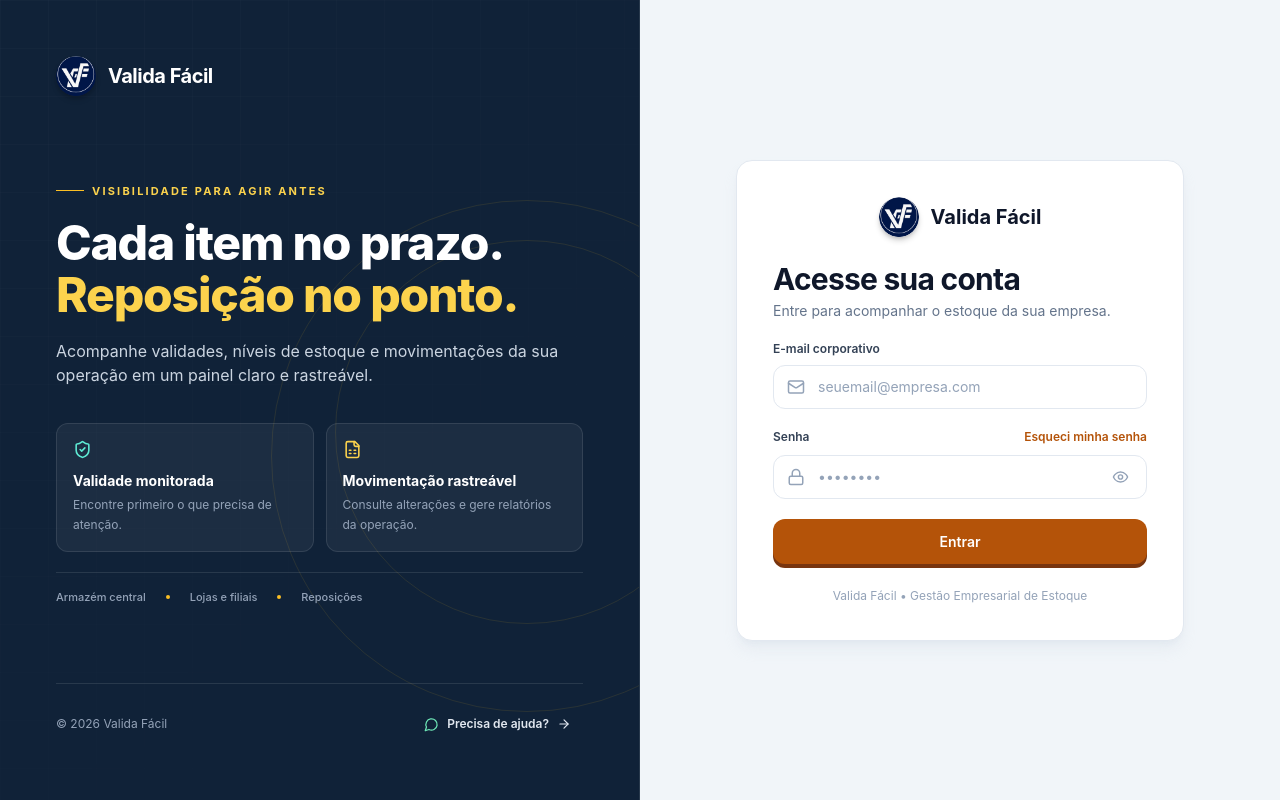
Test: LoginPage › mostra mensagem de erro quando as credenciais estão erradas, sem navegar
The width and height of the screenshot is (1280, 800).
Check: the button "Entrar" is enabled, box [773,518,1147,564]
Type "contato@empresa.com" into the field labelled "E-mail corporativo".
click(960, 386); type("contato@empresa.com")  # box [773,364,1147,408]
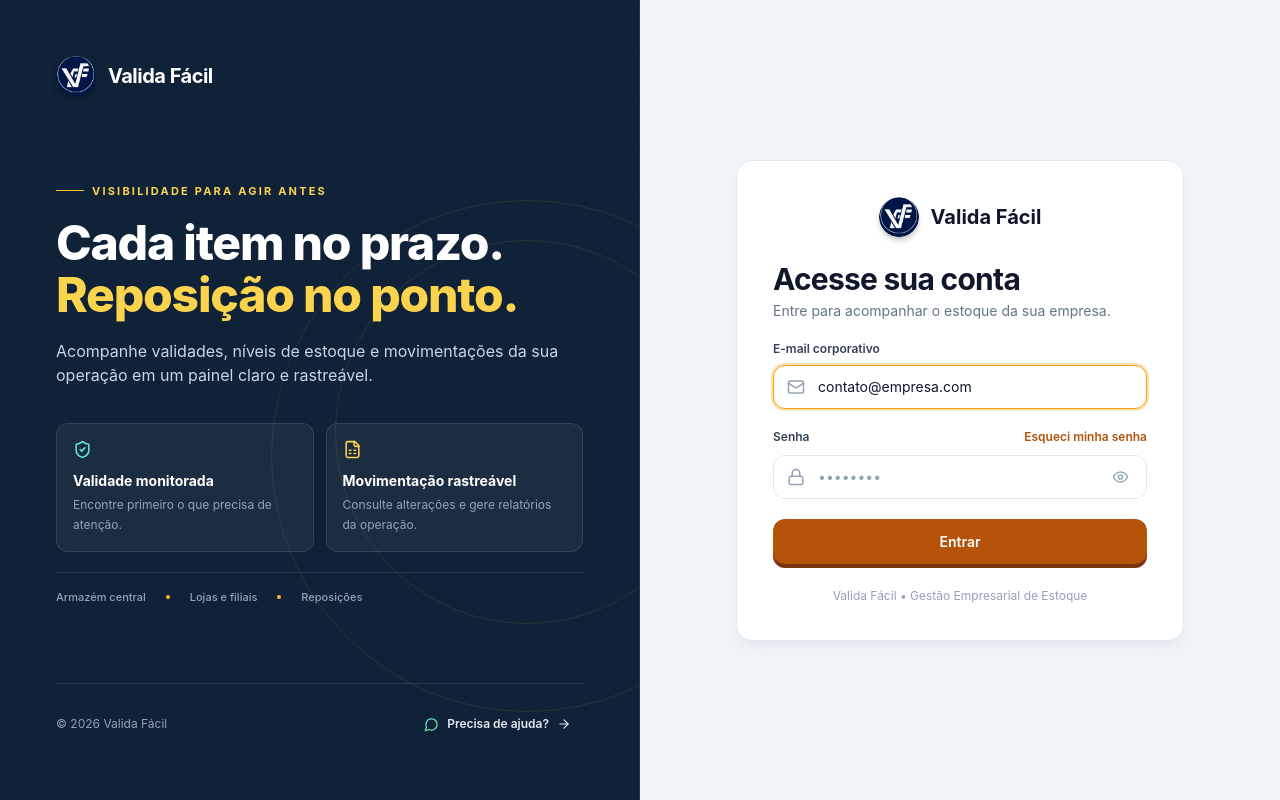
Type "senha-errada" into the password field with placeholder "••••••••".
click(960, 476); type("senha-errada")  # box [773,454,1147,498]
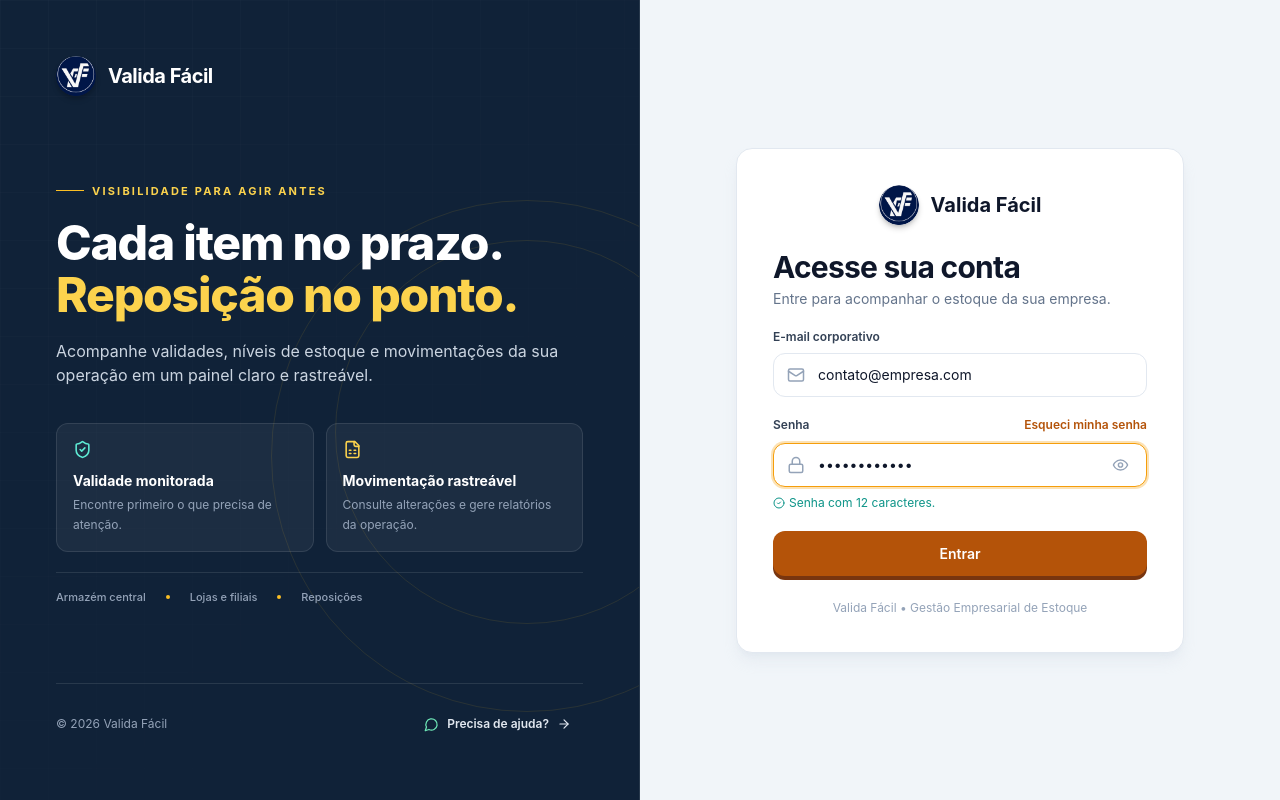
Click the button "Entrar".
click(960, 553)  # box [773,530,1147,576]
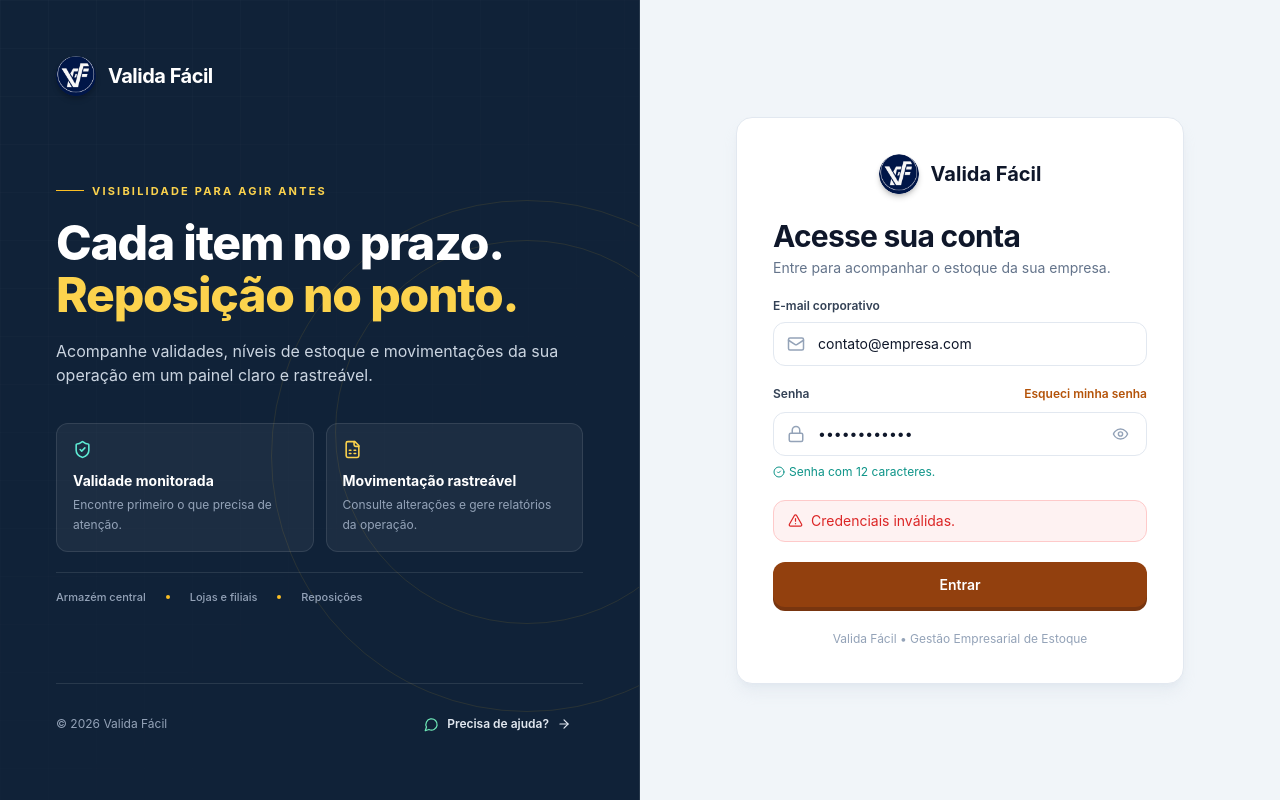
Check: the message reads "Credenciais inválidas.", box [811,512,955,528]
